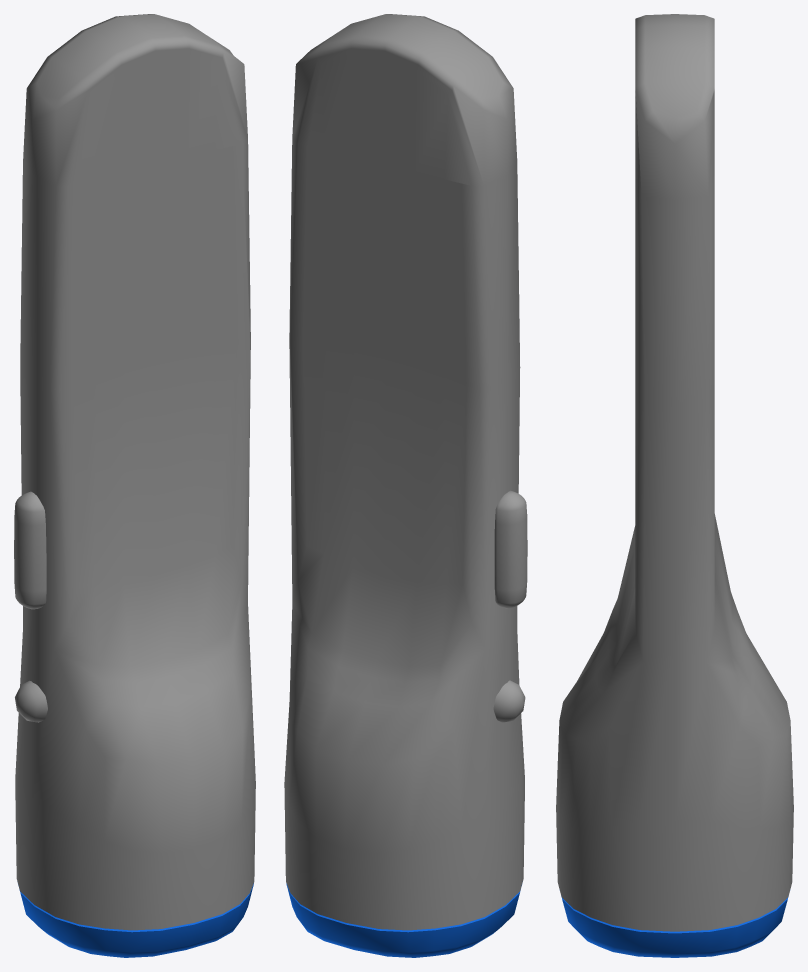
File: thermometre.FBX
3 views of the same model, side by side, from view 1: azimuth 30°, elevation 25°; view 2: azimuth 150°, elevation 25°; view 3: azimuth 270°, elevation 25° (orthographic).
Parts seen in each view (by area): view 1: Box001, Box002, GeoSphere001; view 2: Box001, Box002, GeoSphere001; view 3: Box001.
Part boxes in pixels (left/top/right/bottom): Box001: left=15, top=14, right=255, bottom=957; Box002: left=14, top=491, right=46, bottom=609; GeoSphere001: left=15, top=680, right=47, bottom=722; Box001: left=284, top=14, right=524, bottom=957; Box002: left=494, top=490, right=527, bottom=608; GeoSphere001: left=493, top=680, right=525, bottom=722; Box001: left=556, top=14, right=793, bottom=957.
Size of the model in its own units: 0.0541 by 0.2065 by 0.05.
